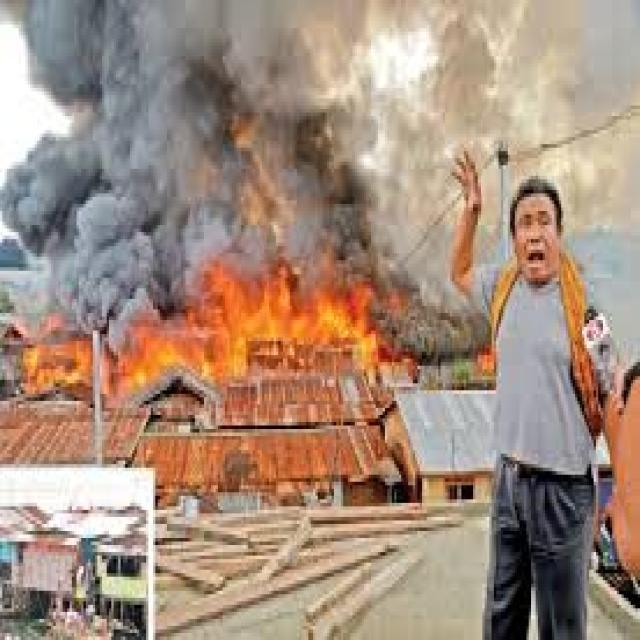Fire: (215, 268, 398, 362), (119, 310, 198, 386)
Smoke: (20, 0, 236, 324), (236, 7, 428, 271), (430, 0, 640, 152)
